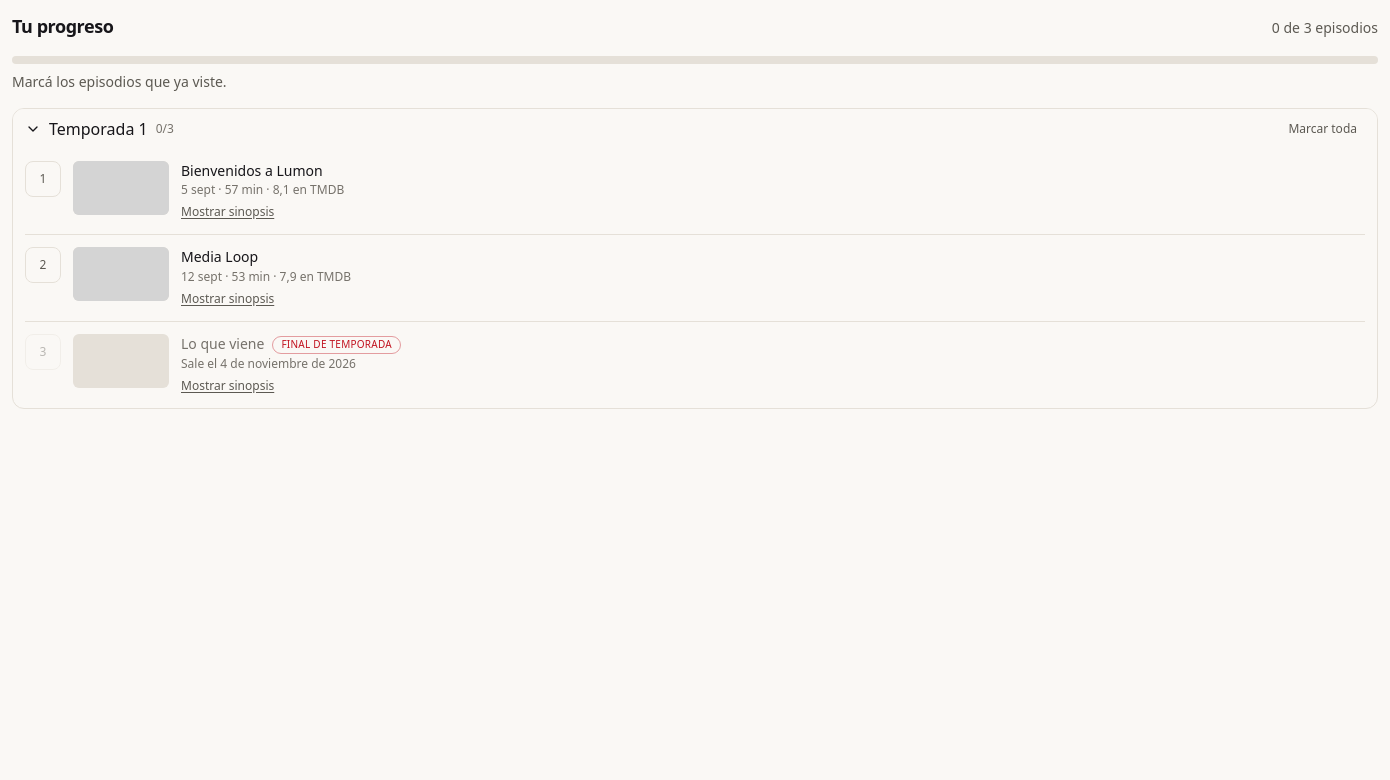
Test case: SeriesProgress, con los episodios de la temporada › marcar el primero de una serie en Por Ver la pasa a Viendo y lo avisa
Click the button named "Episodio 1 de Temporada 1" at (43, 179), box left=25, top=161, right=61, bottom=197
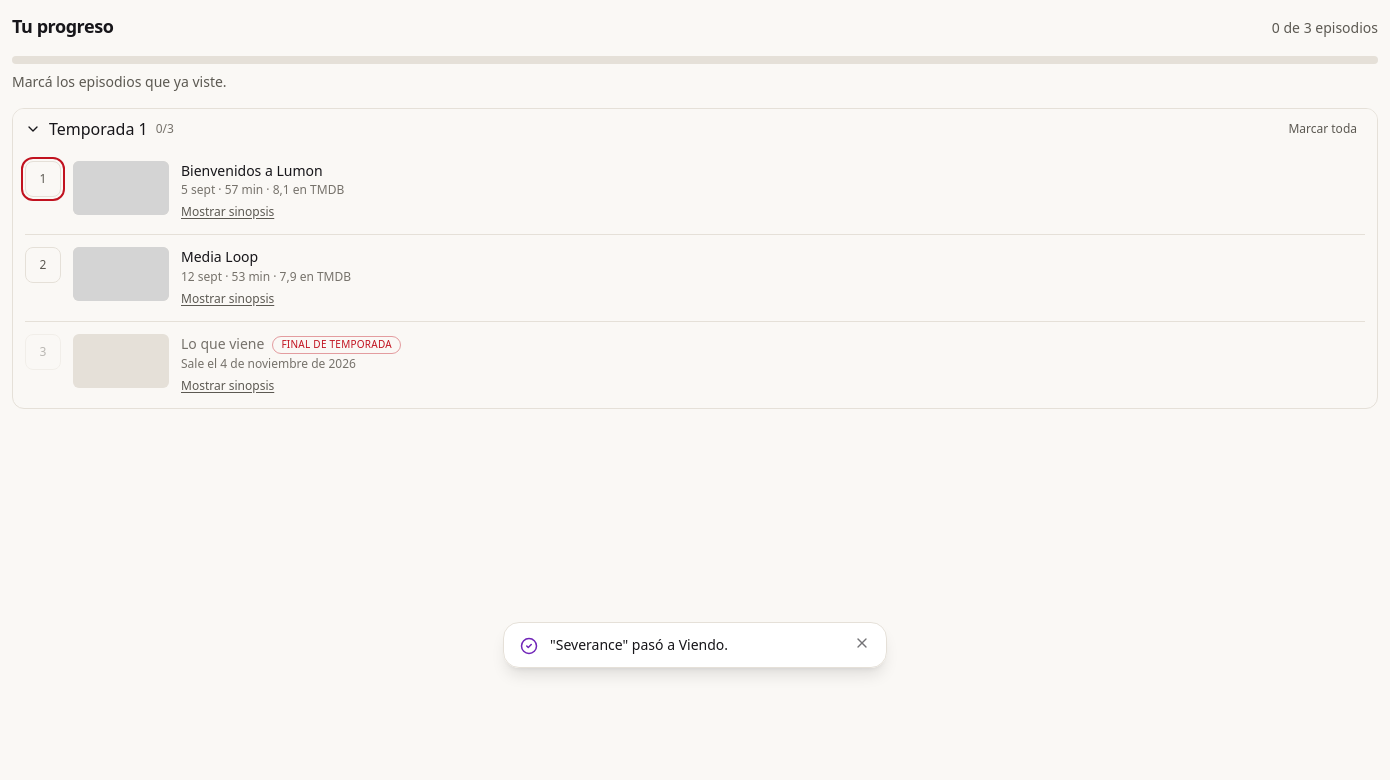
Check: the text "\"Severance\" pasó a Viendo." is shown, box left=550, top=635, right=728, bottom=654
